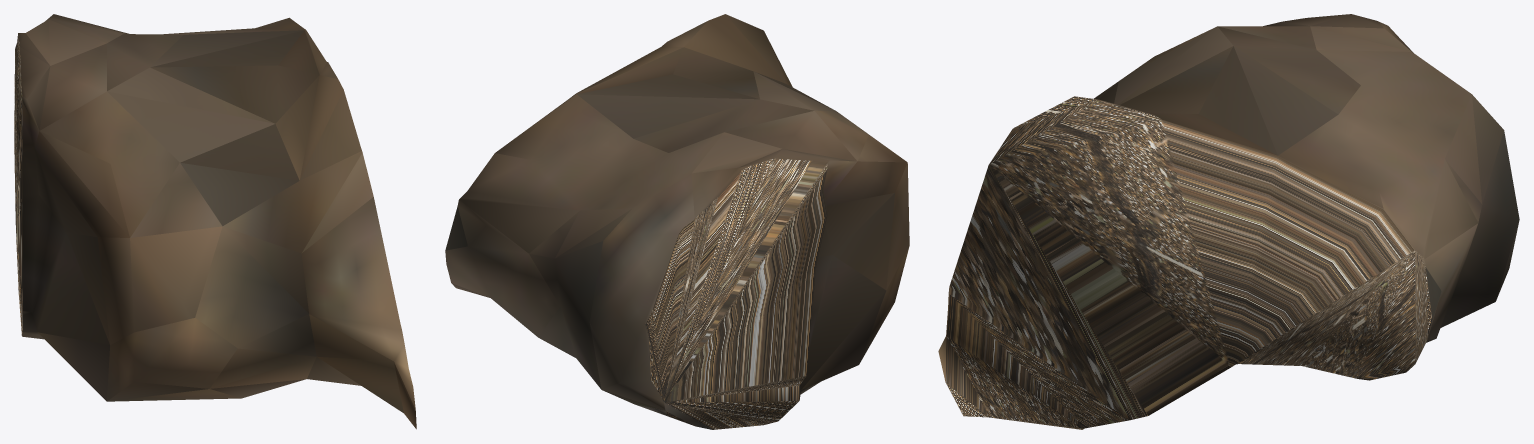
File: Sungaya_inexpectata_31mg.014.obj
3 renders of one model, left to right at view 1: azimuth 30°, elevation 25°; view 2: azimuth 150°, elevation 25°; view 3: azimuth 270°, elevation 25°, orthographic. The views are drawn at different scales.
Visible parts, largest first — view 1: 26-h-l-coxa_Sungaya_inexpectata_31mg.014; view 2: 26-h-l-coxa_Sungaya_inexpectata_31mg.014; view 3: 26-h-l-coxa_Sungaya_inexpectata_31mg.014.
Part boxes in pixels (x1,y1,x2,y2): 26-h-l-coxa_Sungaya_inexpectata_31mg.014: (14, 14, 416, 429); 26-h-l-coxa_Sungaya_inexpectata_31mg.014: (445, 14, 909, 429); 26-h-l-coxa_Sungaya_inexpectata_31mg.014: (938, 14, 1519, 429).
Bounding box in the file's own units: 0.000644 × 0.000541 × 0.000902.
Materials: 1 (1 with a texture image).
